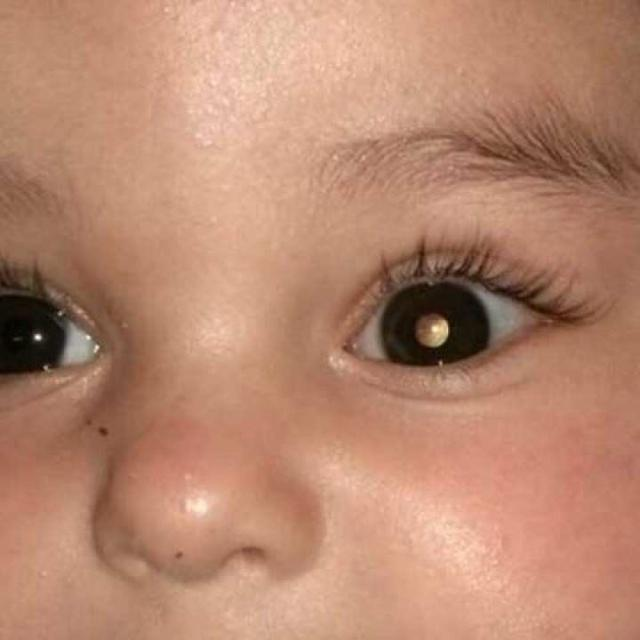reflexo-alterado: (376, 261, 499, 389)
reflexo-normal: (0, 266, 87, 400)
